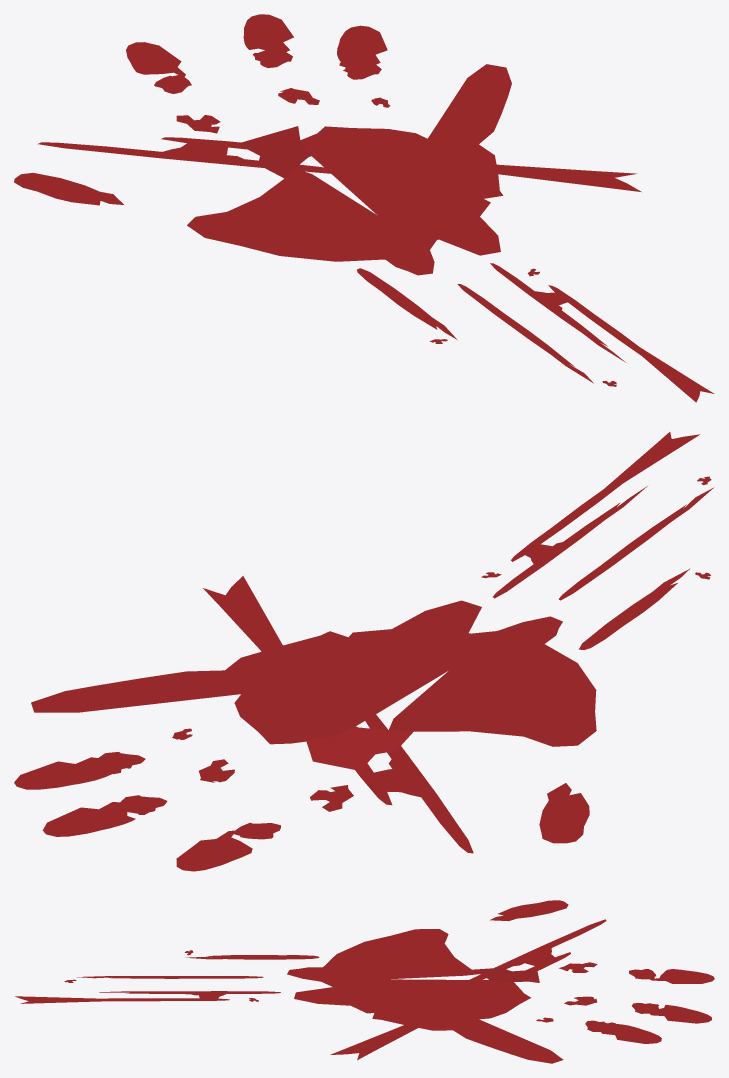
Rendered from HandPrint.fbx.
3 views of the same model, one above another, from view 1: azimuth 30°, elevation 25°; view 2: azimuth 150°, elevation 25°; view 3: azimuth 270°, elevation 25° (orthographic). The views are drawn at different scales.
Parts seen in each view (by area): view 1: Plane.001; view 2: Plane.001; view 3: Plane.001.
Boxes of the visible parts, bbox=[...] form: Plane.001: bbox=[14, 14, 714, 402]; Plane.001: bbox=[14, 432, 713, 871]; Plane.001: bbox=[15, 900, 714, 1063].
Size of the model in its own units: 272 by 4.96 by 493.
